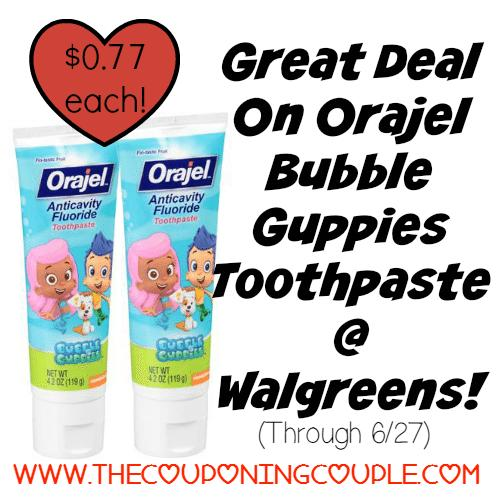toothpaste: (12, 116, 119, 469), (129, 122, 237, 465)
